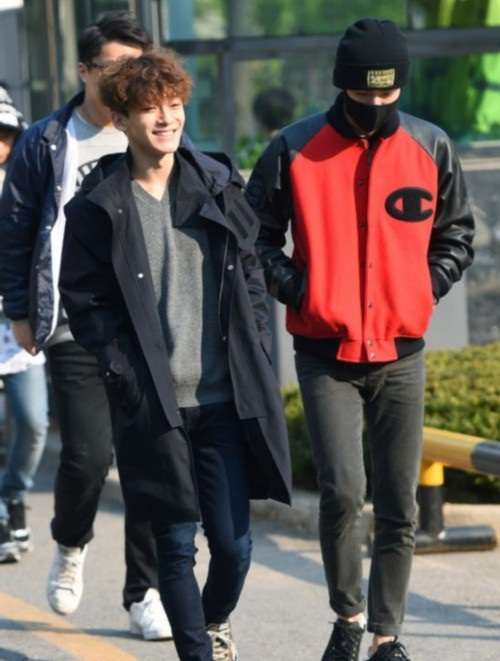face: (94, 41, 144, 119), (132, 79, 183, 152)
face_mask: (346, 70, 399, 138)
